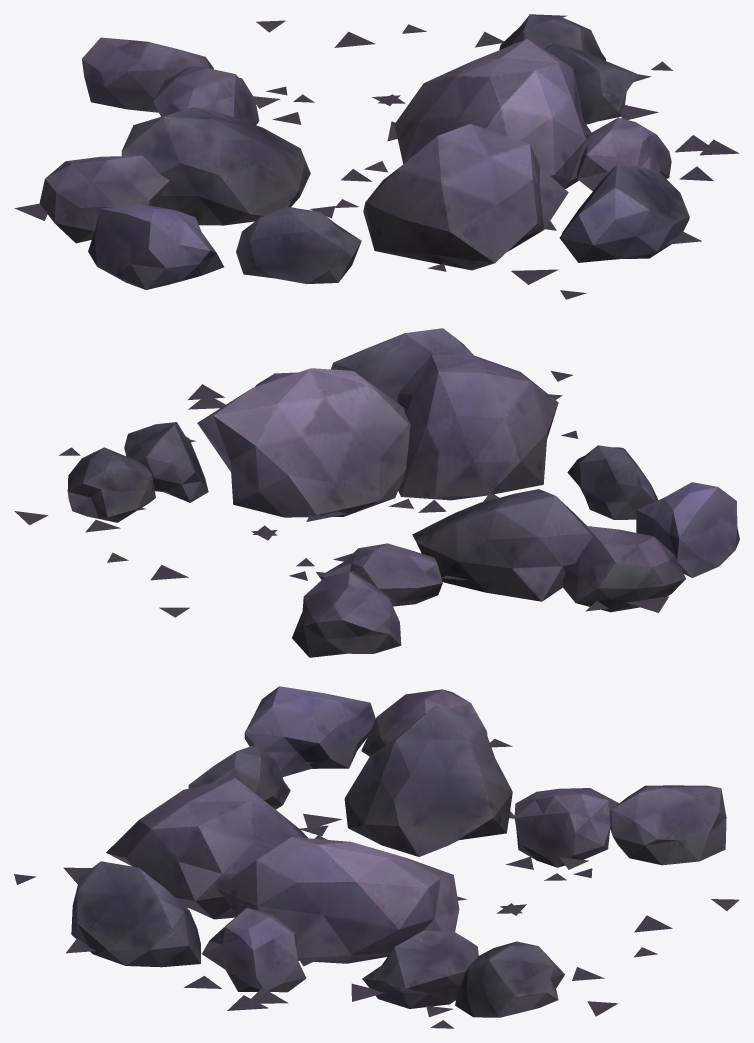
File: tungsten-ore.glb
3 views of the same model, one above another, from view 1: azimuth 30°, elevation 25°; view 2: azimuth 150°, elevation 25°; view 3: azimuth 270°, elevation 25° (orthographic). The views are drawn at different scales.
Parts seen in each view (by area): view 1: tungsten-ore; view 2: tungsten-ore; view 3: tungsten-ore.
Boxes of the visible parts, x1,y1,x2,y2 form: tungsten-ore: (14, 14, 739, 299); tungsten-ore: (14, 328, 739, 657); tungsten-ore: (14, 686, 739, 1028).
Size of the model in its own units: 1.64 by 0.2558 by 1.61.
Materials: 1 (1 with a texture image).
